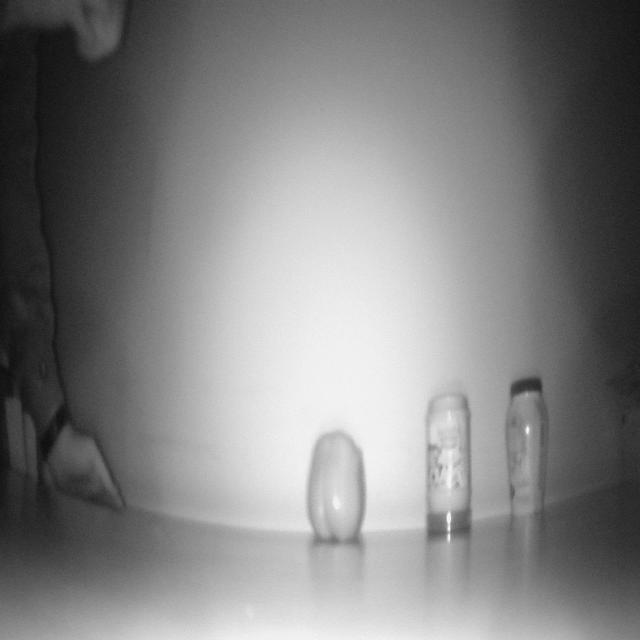targets: (425, 395, 475, 538), (307, 433, 366, 538), (506, 378, 550, 508), (5, 391, 41, 473)
